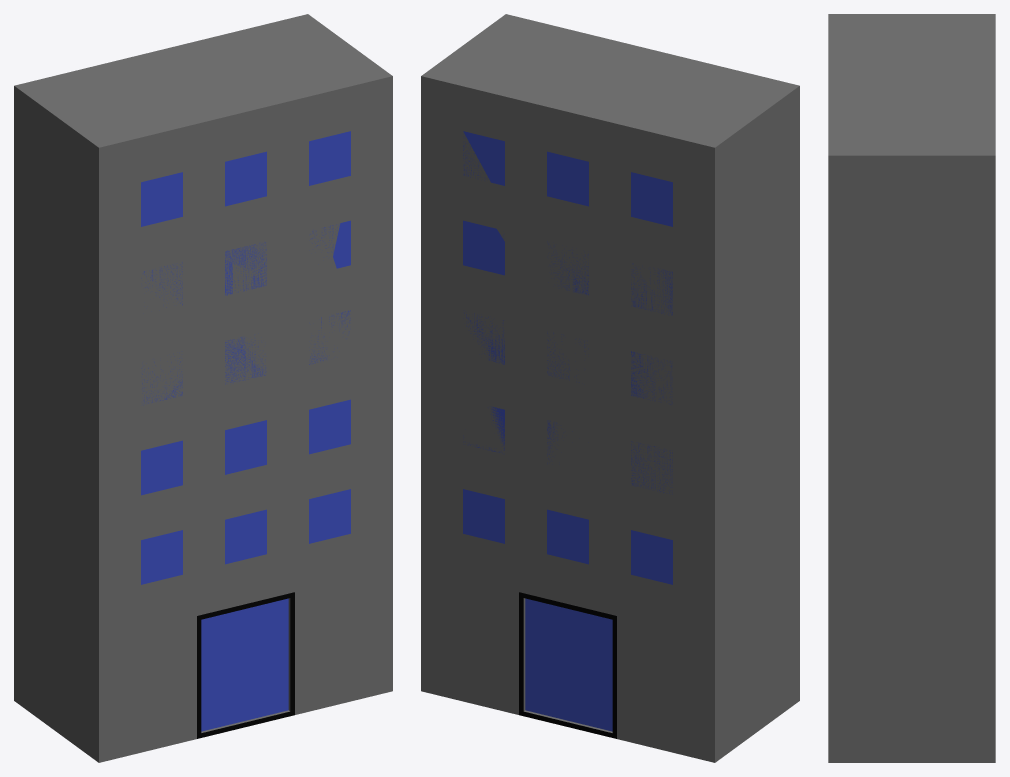
File: building1.fbx
3 views of the same model, side by side, from view 1: azimuth 30°, elevation 25°; view 2: azimuth 150°, elevation 25°; view 3: azimuth 270°, elevation 25° (orthographic).
Parts seen in each view (by area): view 1: Cube; view 2: Cube; view 3: Cube.
Part boxes in pixels (bbox=[...]): Cube: bbox=[14, 14, 392, 762]; Cube: bbox=[421, 14, 799, 762]; Cube: bbox=[828, 14, 995, 762].
Size of the model in its own units: 8000 by 16000 by 4000.
